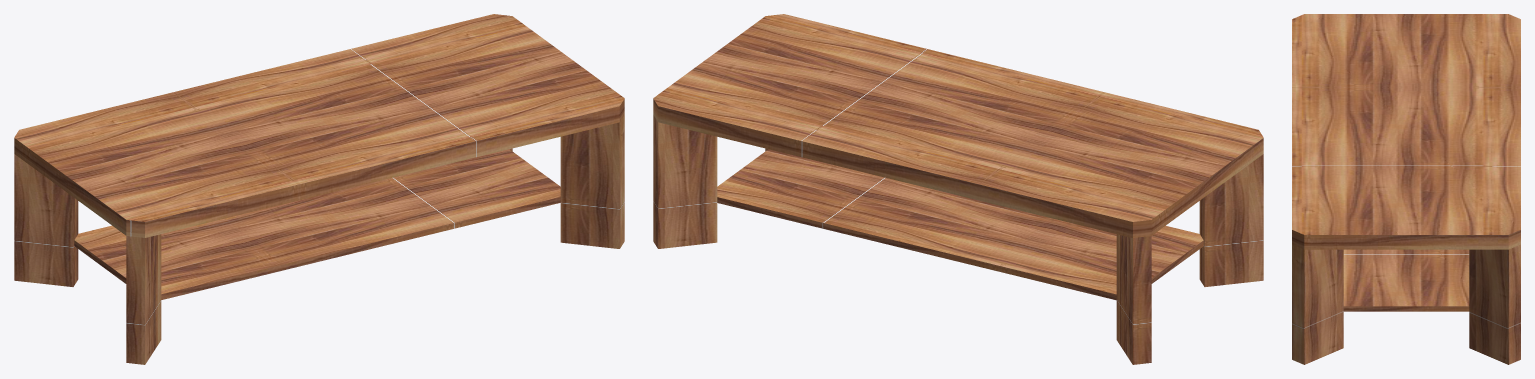
Rendered from table-small.FBX.
3 renders of one model, left to right at view 1: azimuth 30°, elevation 25°; view 2: azimuth 150°, elevation 25°; view 3: azimuth 270°, elevation 25°, orthographic. The views are drawn at different scales.
Parts seen in each view (by area): view 1: zhongdian002; view 2: zhongdian002; view 3: zhongdian002.
Part boxes in pixels (x1,y1,x2,y2): zhongdian002: (14, 14, 624, 364); zhongdian002: (653, 14, 1263, 364); zhongdian002: (1292, 14, 1520, 364).
Bounding box in the file's own units: 139 × 38.21 × 61.
